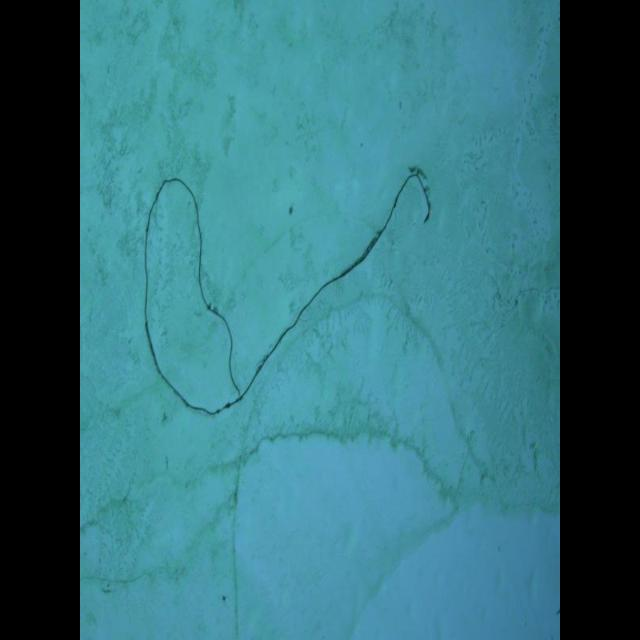Fibre: (142, 164, 432, 416)
